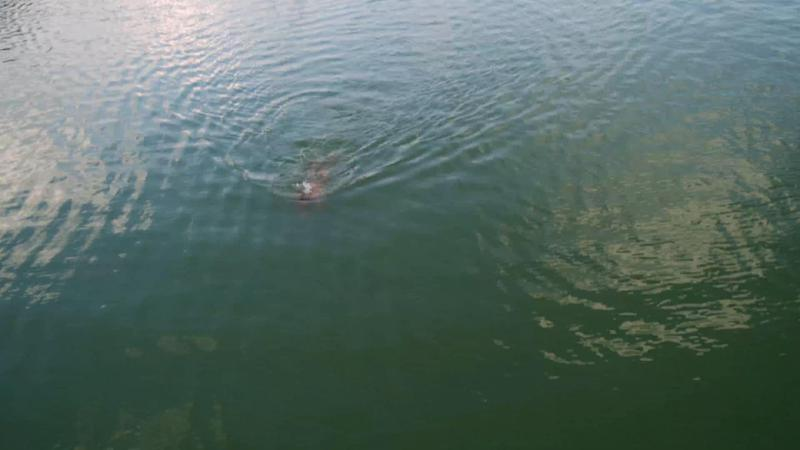passerby: (291, 152, 334, 205)
